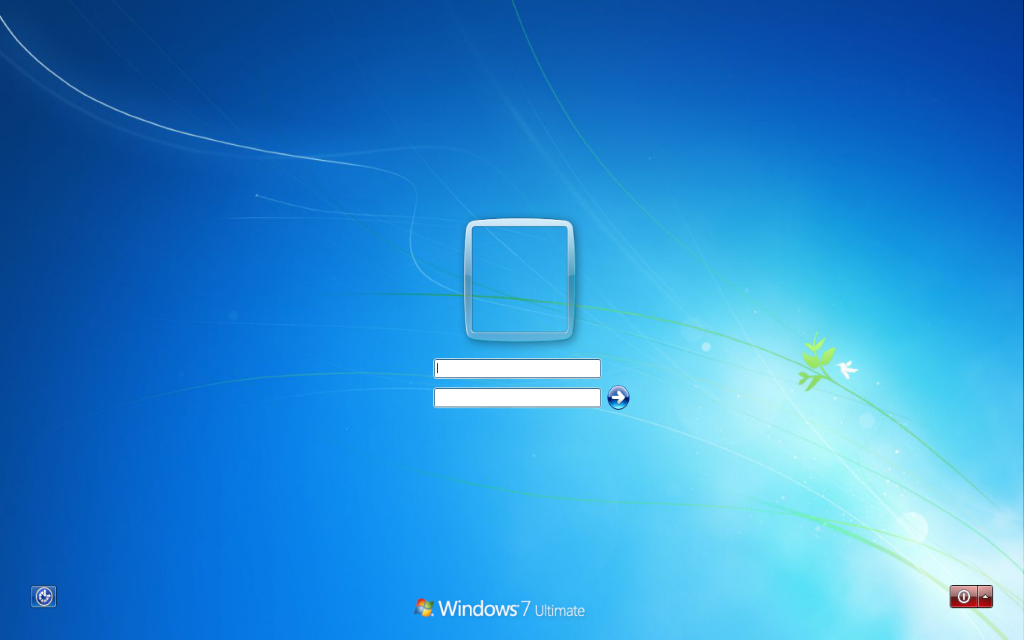button: (949, 584, 993, 608), (607, 386, 631, 411)
textbox: (435, 387, 601, 409), (434, 360, 601, 378)
